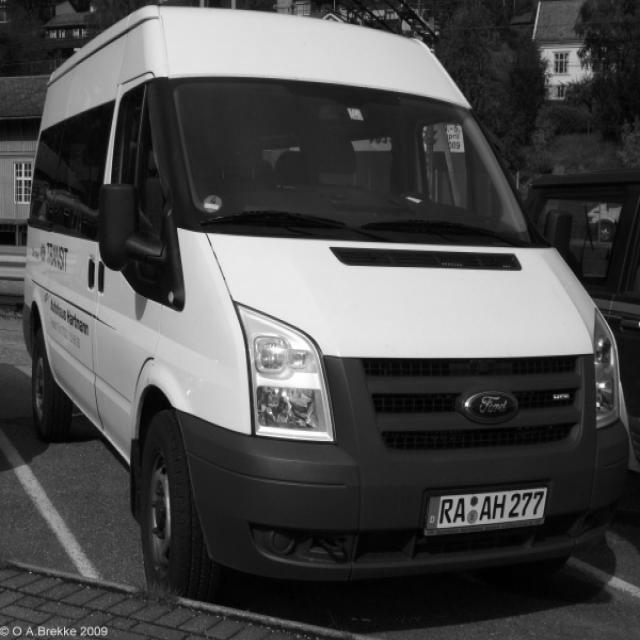License_Plate: (426, 486, 548, 529)
